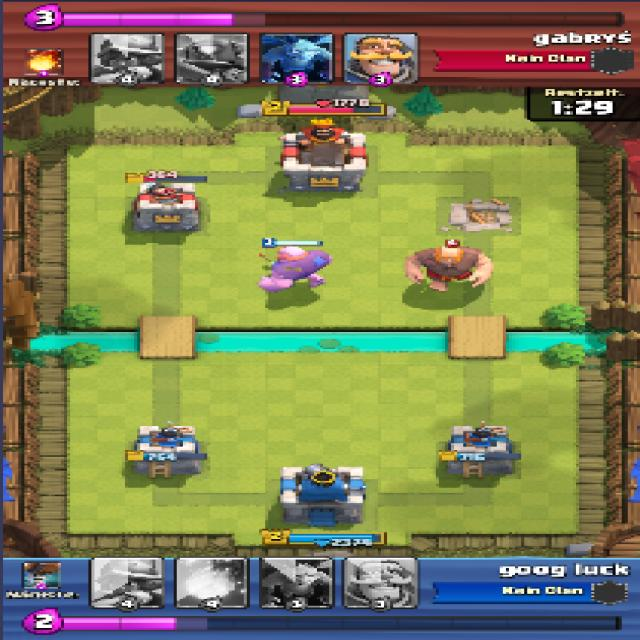Enemy-Giant: (408, 245, 496, 291)
Player-Giant: (258, 245, 333, 293)
